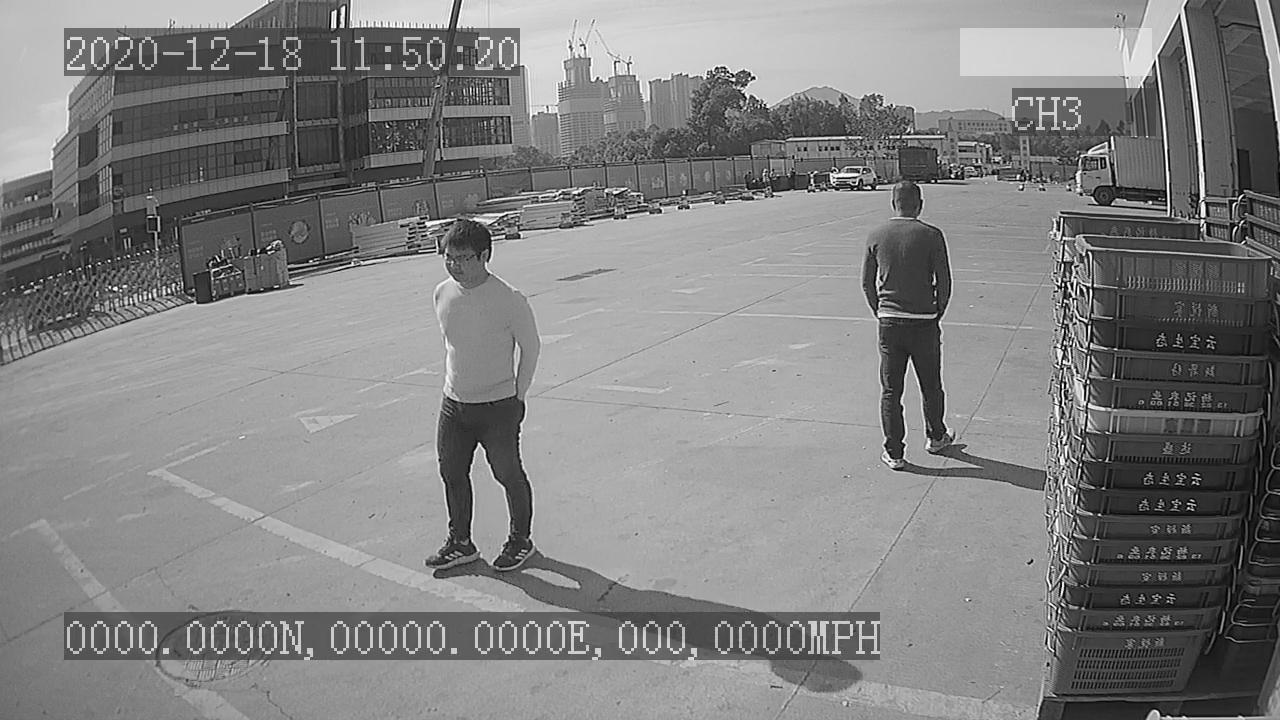person: (417, 217, 543, 583), (859, 176, 959, 472)
